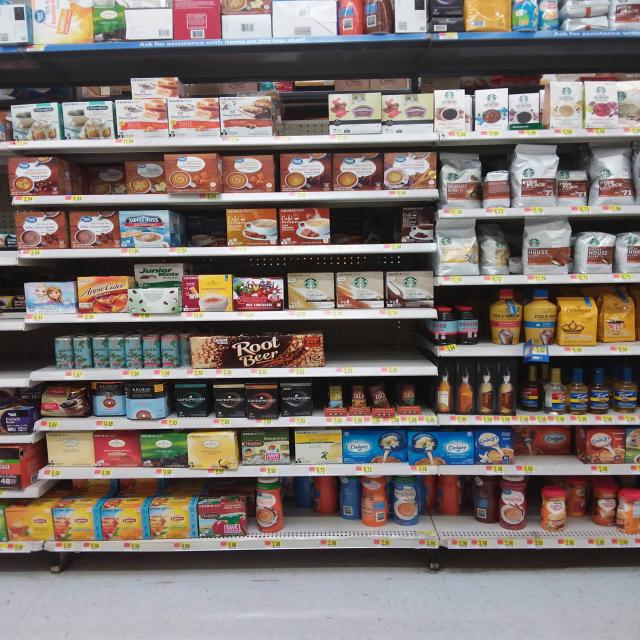empty: (323, 319, 430, 379), (1, 329, 63, 379), (277, 89, 333, 142)
